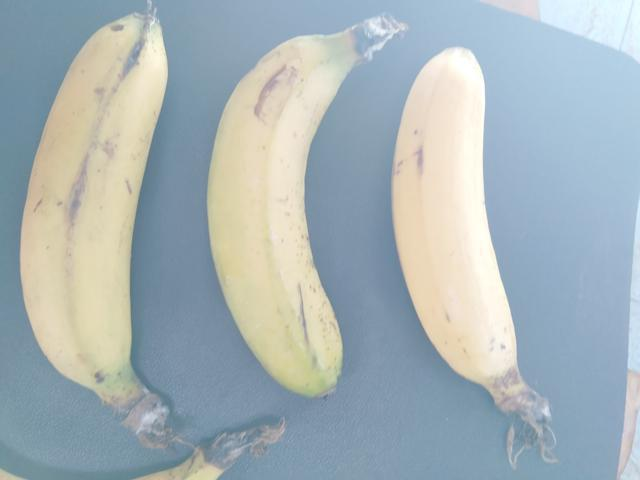freshripe: (375, 44, 518, 411)
ripe: (196, 20, 391, 438), (8, 12, 184, 392)
